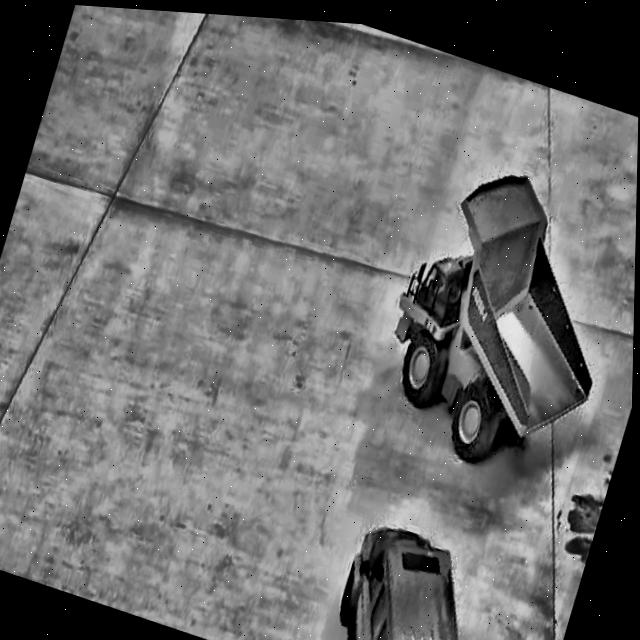dump_truck: (368, 142, 638, 477)
light_vehicle: (310, 495, 506, 640)
